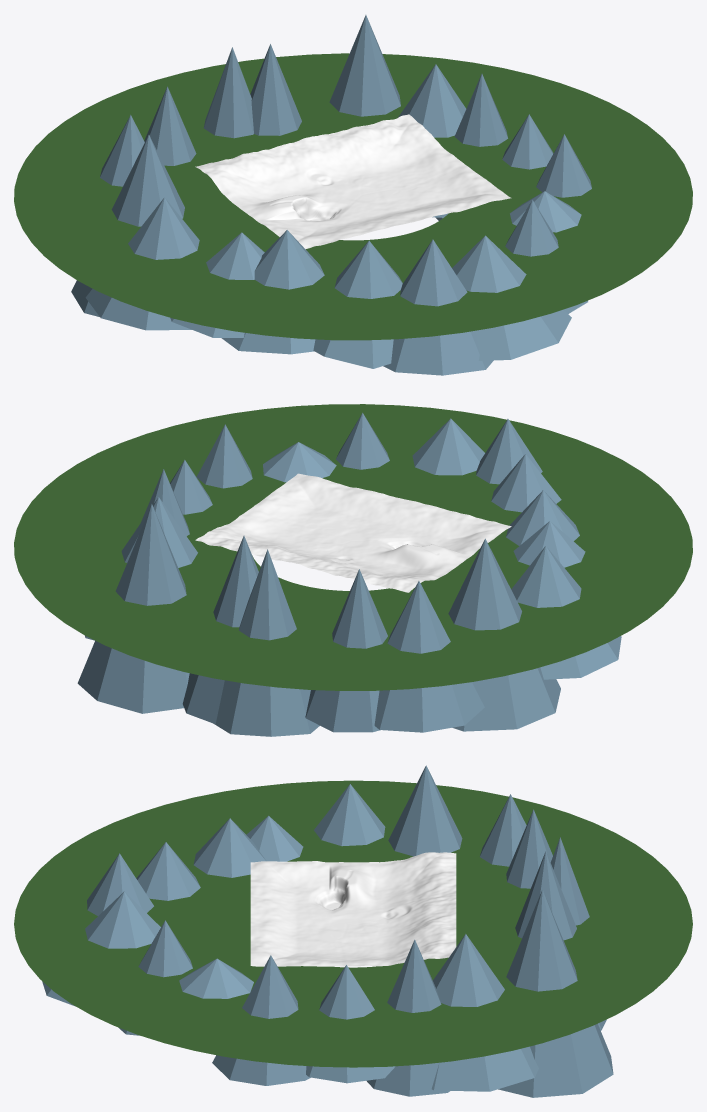
Rendered from TERRAIN.glb.
3 renders of one model, top to bottom at view 1: azimuth 30°, elevation 25°; view 2: azimuth 150°, elevation 25°; view 3: azimuth 270°, elevation 25°, orthographic.
Parts seen in each view (by area): view 1: TERRAIN_Distant_Ground, TERRAIN_Backdrop_Mountains, TERRAIN_Ground; view 2: TERRAIN_Distant_Ground, TERRAIN_Backdrop_Mountains, TERRAIN_Ground; view 3: TERRAIN_Distant_Ground, TERRAIN_Backdrop_Mountains, TERRAIN_Ground.
Boxes of the visible parts, bbox=[...] form: TERRAIN_Distant_Ground: bbox=[14, 53, 692, 340]; TERRAIN_Backdrop_Mountains: bbox=[71, 15, 591, 375]; TERRAIN_Ground: bbox=[195, 114, 511, 249]; TERRAIN_Distant_Ground: bbox=[14, 404, 692, 690]; TERRAIN_Backdrop_Mountains: bbox=[77, 412, 621, 736]; TERRAIN_Ground: bbox=[195, 473, 511, 592]; TERRAIN_Distant_Ground: bbox=[14, 780, 692, 1067]; TERRAIN_Backdrop_Mountains: bbox=[42, 765, 613, 1097]; TERRAIN_Ground: bbox=[250, 852, 456, 966].
Size of the model in its own units: 660 by 193 by 660.
